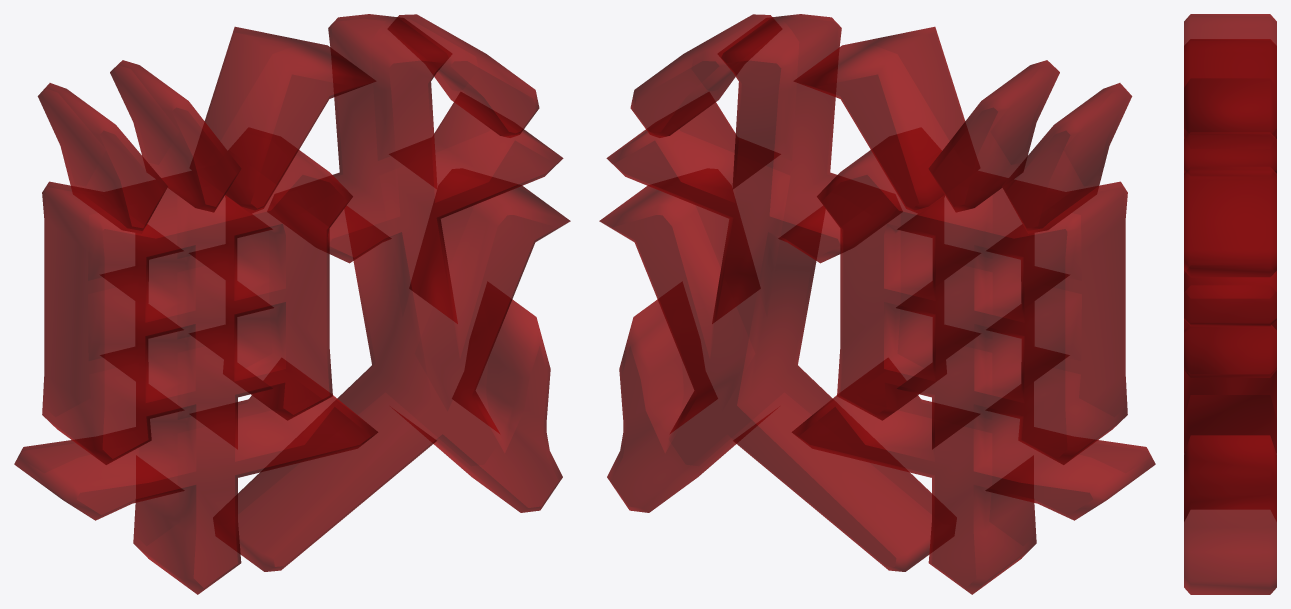
File: quest04.glb
3 renders of one model, left to right at view 1: azimuth 30°, elevation 25°; view 2: azimuth 150°, elevation 25°; view 3: azimuth 270°, elevation 25°, orthographic. The views are drawn at different scales.
Visible parts, largest first — view 1: Text.004; view 2: Text.004; view 3: Text.004.
Boxes of the visible parts, x1=… form: Text.004: x1=14, y1=14, x2=570, y2=594; Text.004: x1=599, y1=14, x2=1155, y2=594; Text.004: x1=1184, y1=14, x2=1276, y2=594.
Bounding box in the file's own units: 0.7173 × 0.6904 × 0.14.
